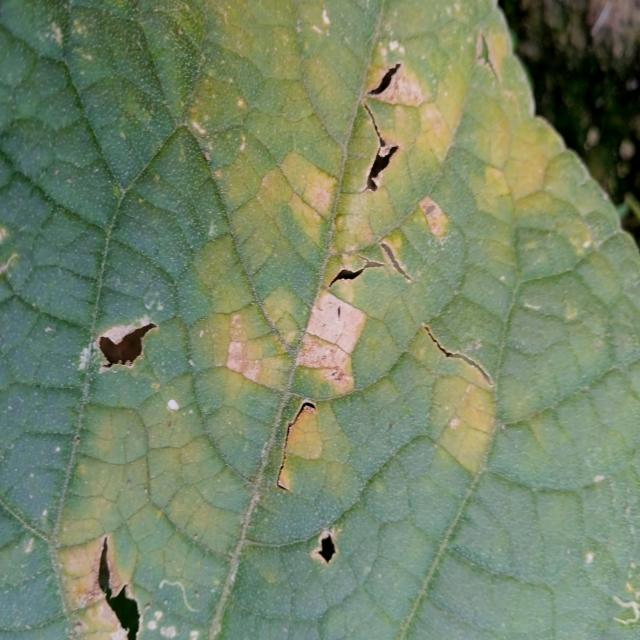cucumber_anthracnose: (12, 4, 450, 638)
